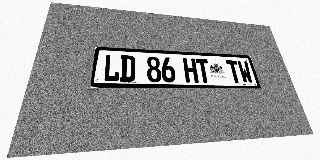6: (160, 57, 176, 82)
8: (147, 56, 162, 82)
D: (120, 55, 135, 82)
H: (183, 58, 199, 83)
L: (103, 54, 120, 82)
T: (195, 59, 212, 83), (226, 60, 243, 83)
W: (237, 61, 254, 83)
